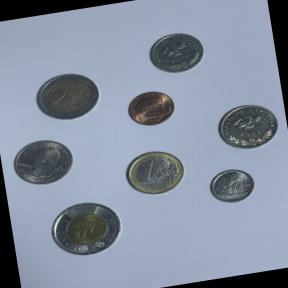coin: (43, 194, 131, 266), (28, 64, 106, 127), (211, 96, 284, 156), (6, 132, 78, 191), (119, 144, 190, 202), (120, 85, 182, 133), (204, 162, 260, 209)
